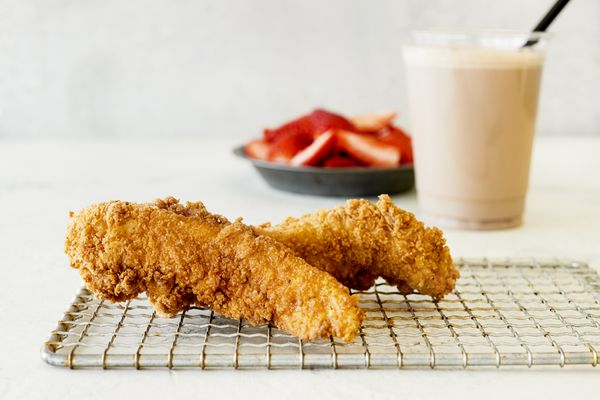sushi: (241, 105, 416, 198)
